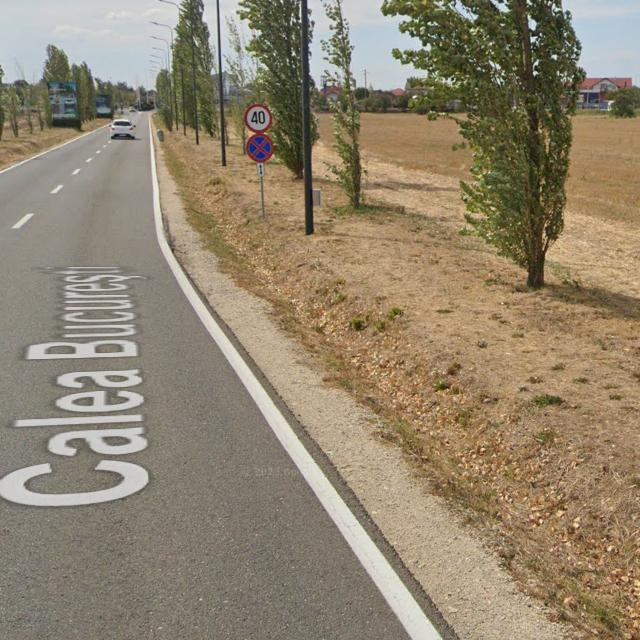forb_speed_over_40: (244, 103, 273, 133)
forb_waiting: (245, 134, 275, 164)
